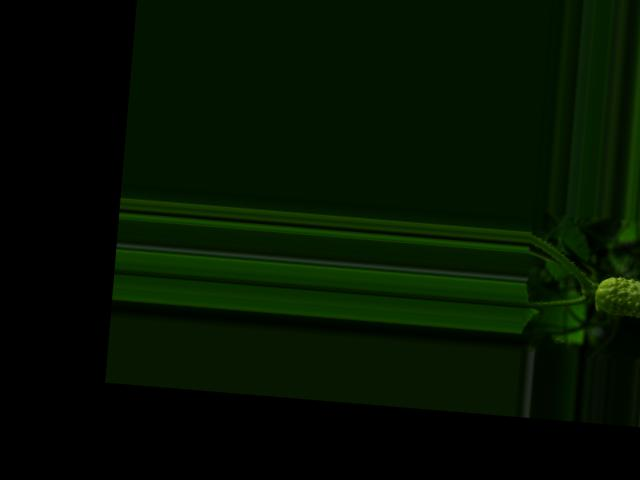cucumber: (593, 274, 640, 321)
